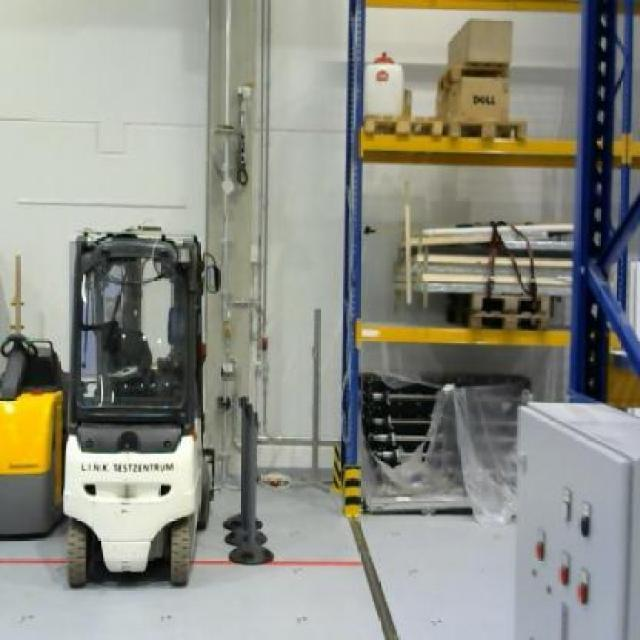box: (445, 15, 513, 71), (434, 76, 511, 122)
